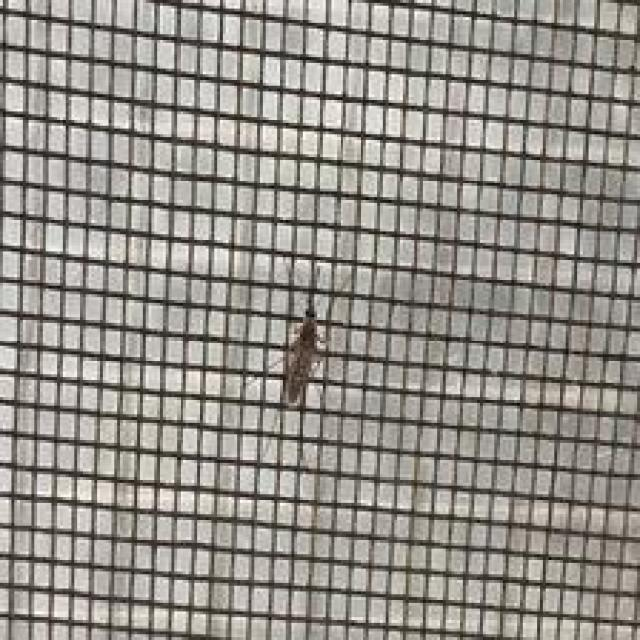Culex: (277, 304, 329, 410)
